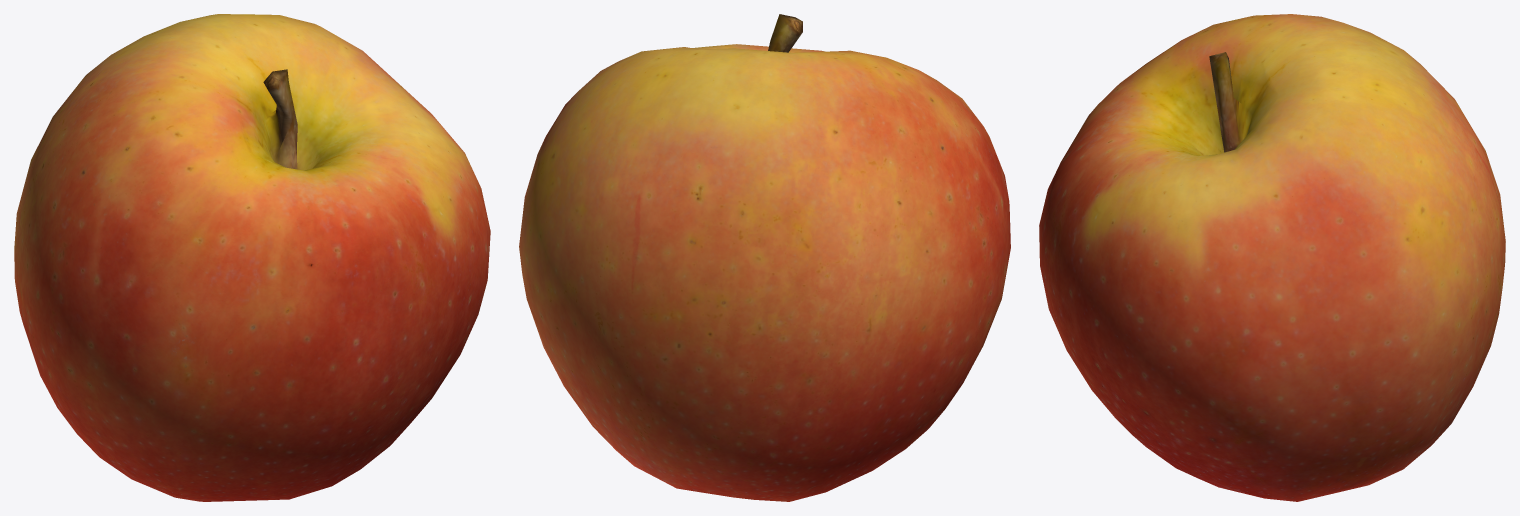
The model's file is 3DApple002_LQ-2K-JPG.obj.
The picture shows the model from 3 angles, left to right: view 1: azimuth 30°, elevation 25°; view 2: azimuth 150°, elevation 25°; view 3: azimuth 270°, elevation 25°; orthographic projection. The views are drawn at different scales.
Visible parts, largest first — view 1: 3DApple002_LQ-2K-JPG; view 2: 3DApple002_LQ-2K-JPG; view 3: 3DApple002_LQ-2K-JPG.
Part boxes in pixels (x1,y1,x2,y2): 3DApple002_LQ-2K-JPG: (14, 14, 490, 501); 3DApple002_LQ-2K-JPG: (519, 14, 1010, 501); 3DApple002_LQ-2K-JPG: (1039, 14, 1505, 501).
Bounding box in the file's own units: 0.0698 × 0.0679 × 0.0695.
Materials: 1 (1 with a texture image).
